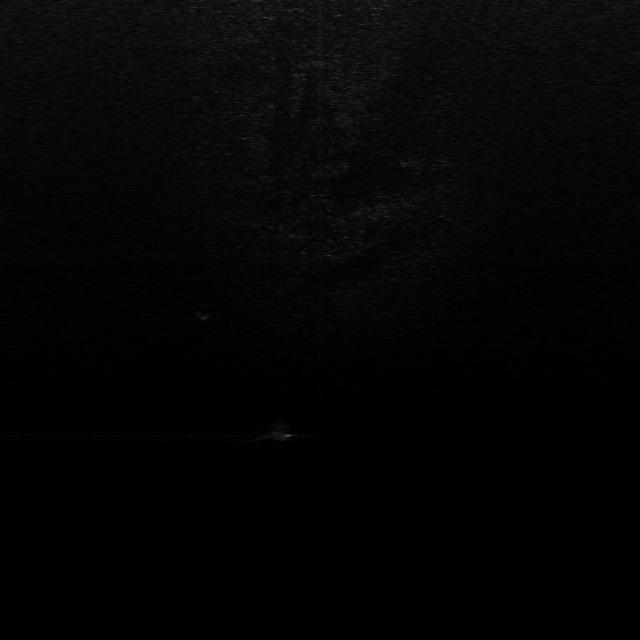ball: (264, 422, 296, 443)
circle cage: (194, 304, 218, 318)
